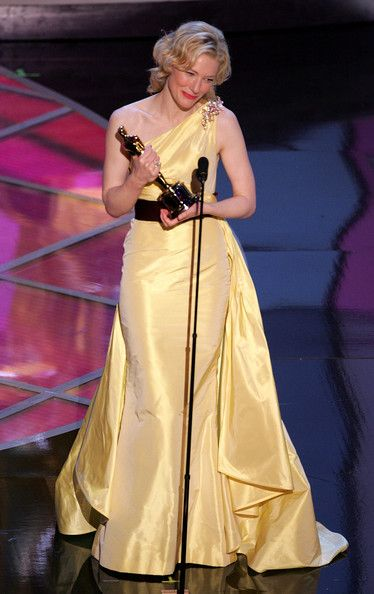hand: (134, 148, 157, 178)
